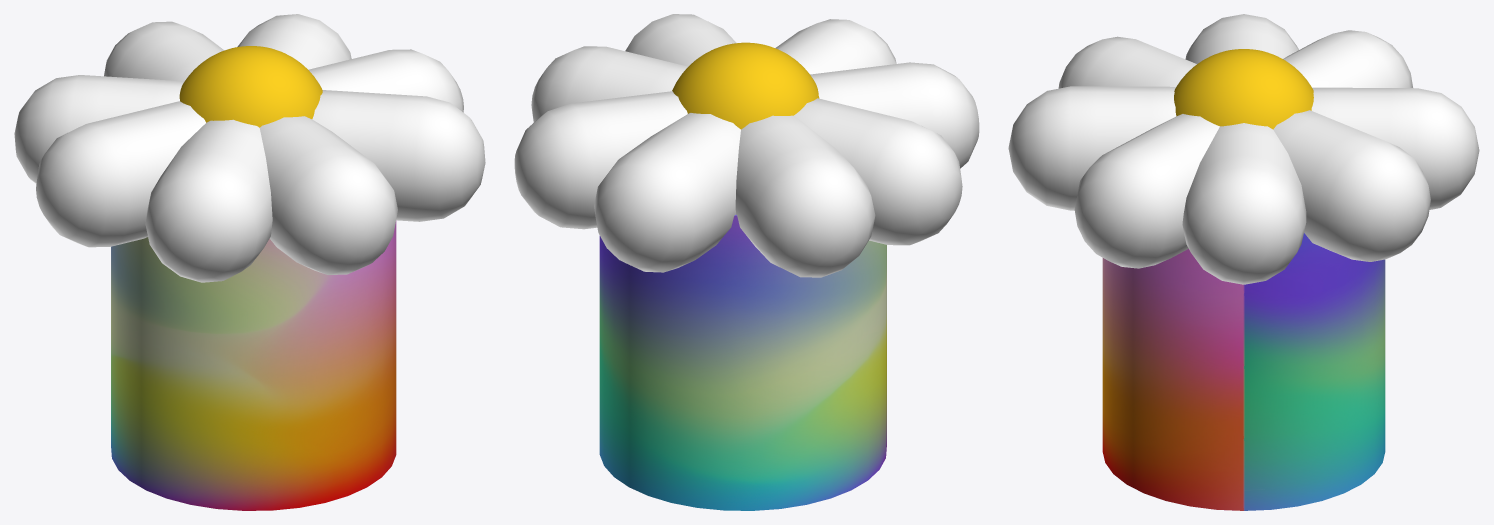
Rendered from flower 1.fbx.
3 renders of one model, left to right at view 1: azimuth 30°, elevation 25°; view 2: azimuth 150°, elevation 25°; view 3: azimuth 270°, elevation 25°, orthographic.
Parts seen in each view (by area): view 1: 圆柱, 胶囊_4, 胶囊_3, 胶囊, 胶囊_7, 球体, 胶囊_6, 胶囊_1, 胶囊_2, 胶囊_5; view 2: 圆柱, 胶囊_2, 胶囊_6, 胶囊, 胶囊_5, 球体, 胶囊_4, 胶囊_1, 胶囊_3, 胶囊_7; view 3: 圆柱, 胶囊_5, 胶囊_1, 胶囊_7, 胶囊_3, 胶囊_2, 球体, 胶囊_6, 胶囊_4, 胶囊.
Boxes of the visible parts, bbox=[...] form: 圆柱: bbox=[111, 220, 396, 510]; 胶囊_4: bbox=[145, 119, 272, 282]; 胶囊_3: bbox=[259, 116, 397, 274]; 胶囊: bbox=[36, 101, 205, 247]; 胶囊_7: bbox=[312, 90, 485, 221]; 球体: bbox=[179, 46, 322, 127]; 胶囊_6: bbox=[14, 75, 184, 183]; 胶囊_1: bbox=[308, 49, 463, 112]; 胶囊_2: bbox=[104, 21, 224, 81]; 胶囊_5: bbox=[237, 14, 351, 69]; 圆柱: bbox=[599, 215, 886, 510]; 胶囊_2: bbox=[594, 113, 740, 272]; 胶囊_6: bbox=[735, 115, 875, 277]; 胶囊: bbox=[794, 98, 962, 245]; 胶囊_5: bbox=[514, 91, 687, 229]; 球体: bbox=[672, 42, 819, 129]; 胶囊_4: bbox=[810, 62, 979, 168]; 胶囊_1: bbox=[531, 46, 687, 122]; 胶囊_3: bbox=[775, 19, 896, 74]; 胶囊_7: bbox=[625, 14, 736, 66]; 圆柱: bbox=[1102, 233, 1385, 510]; 胶囊_5: bbox=[1273, 110, 1430, 261]; 胶囊_1: bbox=[1182, 123, 1306, 284]; 胶囊_7: bbox=[1074, 114, 1219, 268]; 胶囊_3: bbox=[1008, 86, 1176, 210]; 胶囊_2: bbox=[1311, 87, 1479, 209]; 球体: bbox=[1174, 49, 1313, 129]; 胶囊_6: bbox=[1283, 30, 1412, 87]; 胶囊_4: bbox=[1058, 36, 1196, 88]; 胶囊: bbox=[1185, 14, 1298, 63].
Bounding box in the file's own units: 166 × 154 × 166.
Materials: 3 (1 with a texture image).
